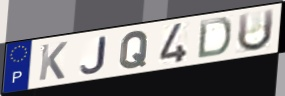4: (157, 21, 190, 65)
D: (196, 16, 234, 60)
J: (79, 35, 108, 75)
K: (37, 40, 69, 83)
Q: (118, 29, 151, 70)
U: (235, 7, 277, 54)
